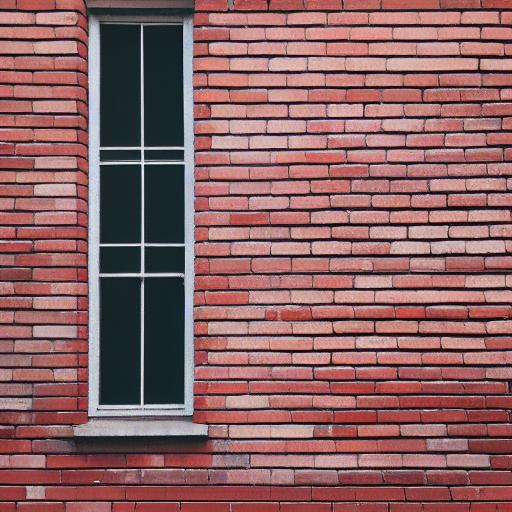Window: (73, 2, 215, 440)
